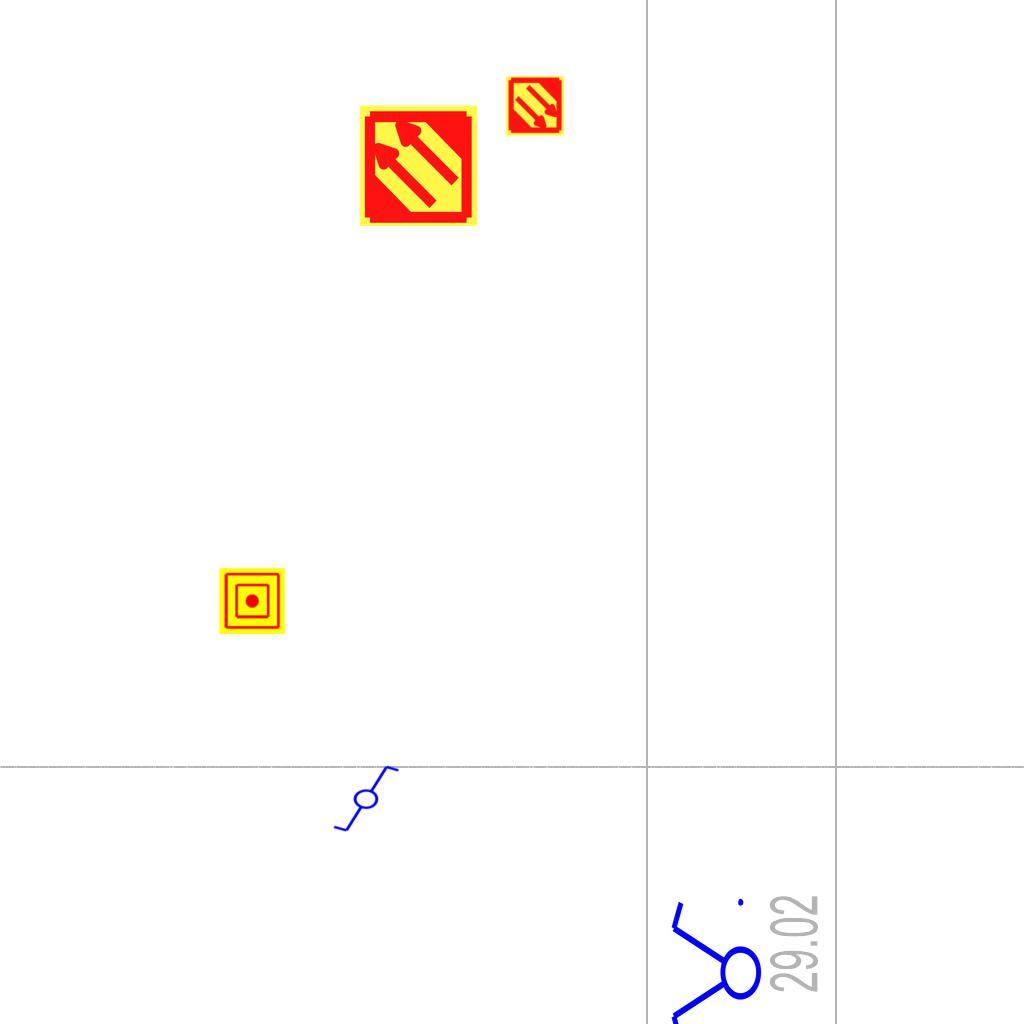ASR_Ansaugrauchmelder: (356, 103, 481, 228), (504, 75, 566, 137)
NAM-Nichtautomatischer_Melder: (219, 568, 285, 634)
Serienschalter: (667, 890, 763, 1024)
Wechselschalter: (323, 762, 401, 834)
